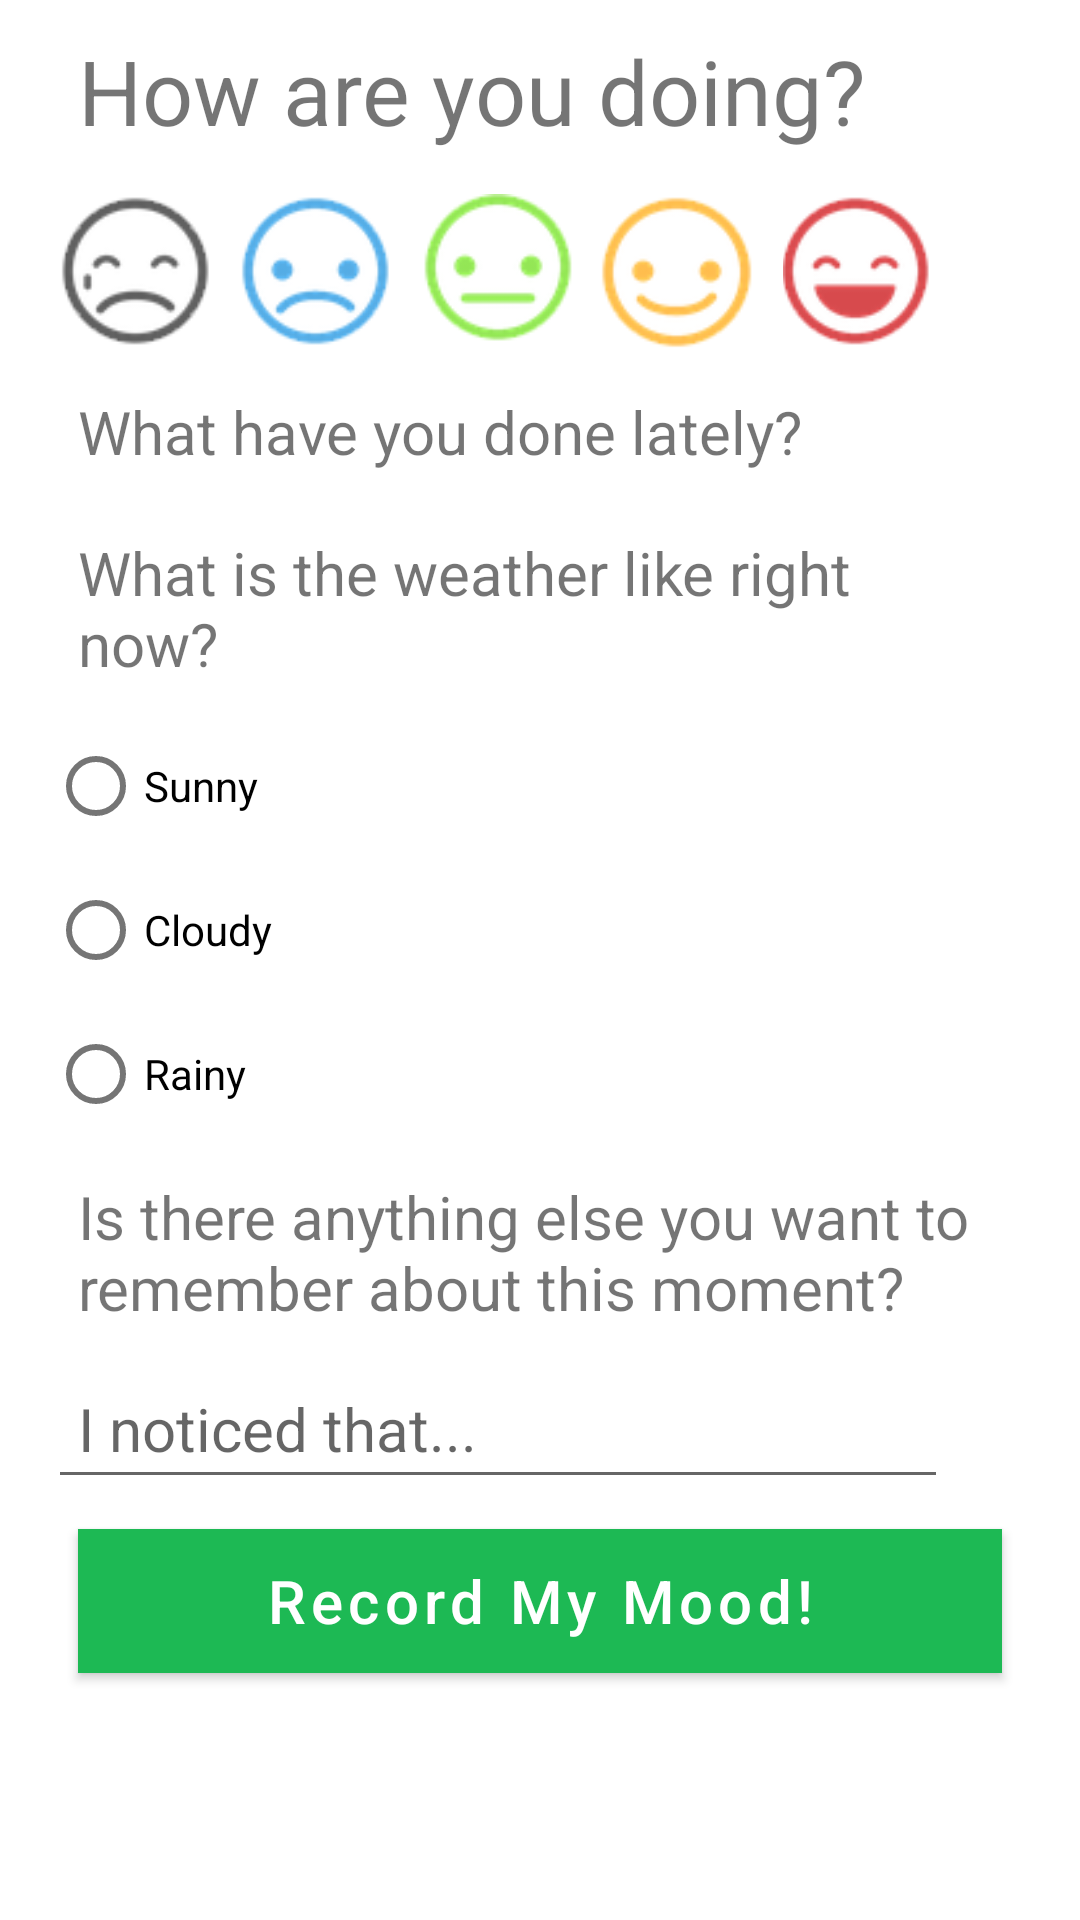

Locate icon controls on the screen. Image size 1080px×1920px, boxes as (x1, y1, x2, y2).
down: (242, 197, 389, 345)
elated: (783, 197, 929, 345)
neutral: (424, 194, 572, 341)
upset: (62, 198, 209, 344)
